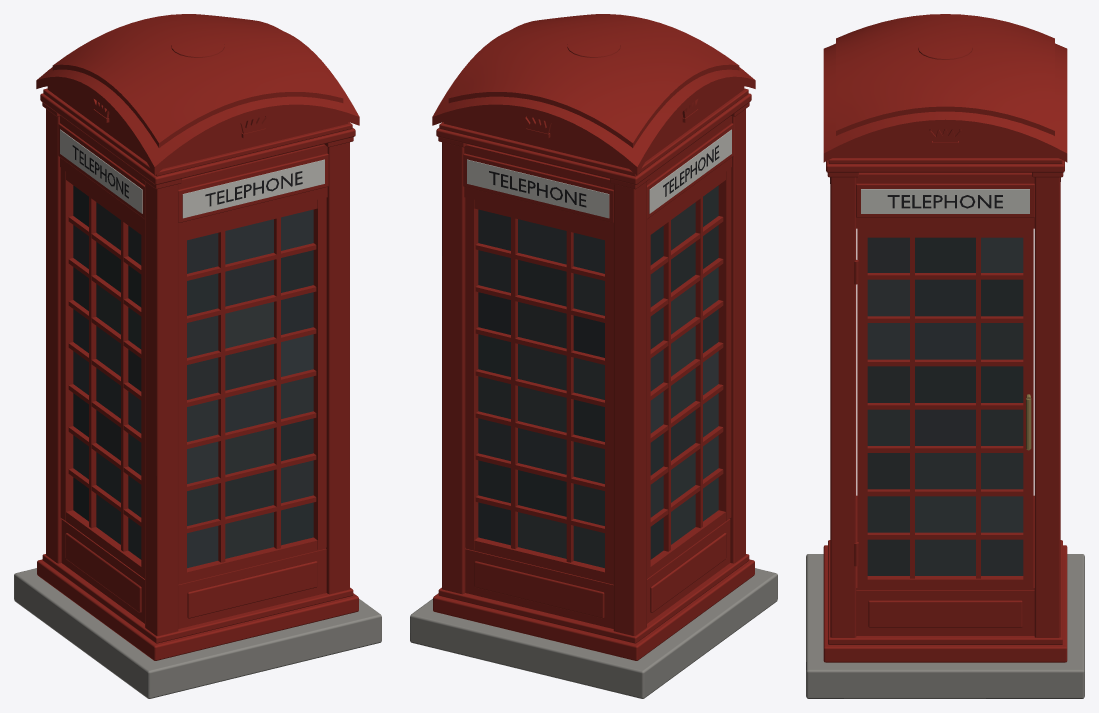
Rendered from SM_Prop_phone_box_1.glb.
3 renders of one model, left to right at view 1: azimuth 30°, elevation 25°; view 2: azimuth 150°, elevation 25°; view 3: azimuth 270°, elevation 25°, orthographic. The views are drawn at different scales.
Parts seen in each view (by area): view 1: SM_Prop_phone_box_1; view 2: SM_Prop_phone_box_1; view 3: SM_Prop_phone_box_1.
Boxes of the visible parts, bbox=[...] form: SM_Prop_phone_box_1: bbox=[14, 14, 381, 698]; SM_Prop_phone_box_1: bbox=[410, 14, 777, 698]; SM_Prop_phone_box_1: bbox=[806, 14, 1084, 698].
Bounding box in the file's own units: 1.12 × 2.64 × 1.12.
